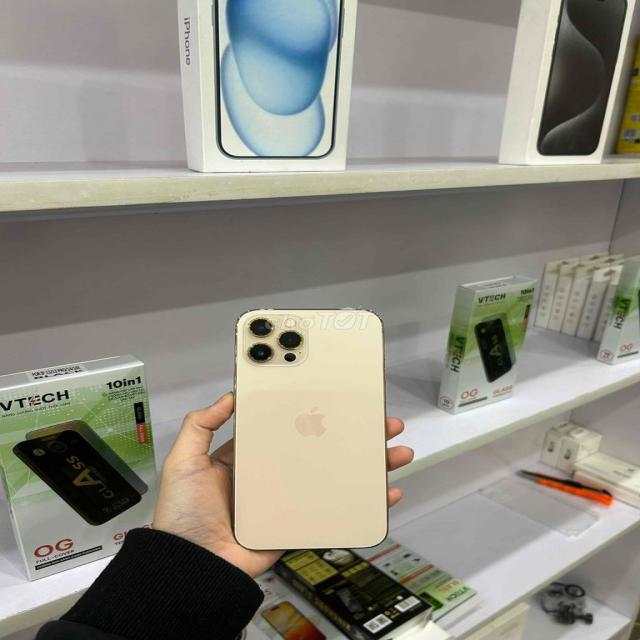gen_12_13: (232, 306, 392, 554)
